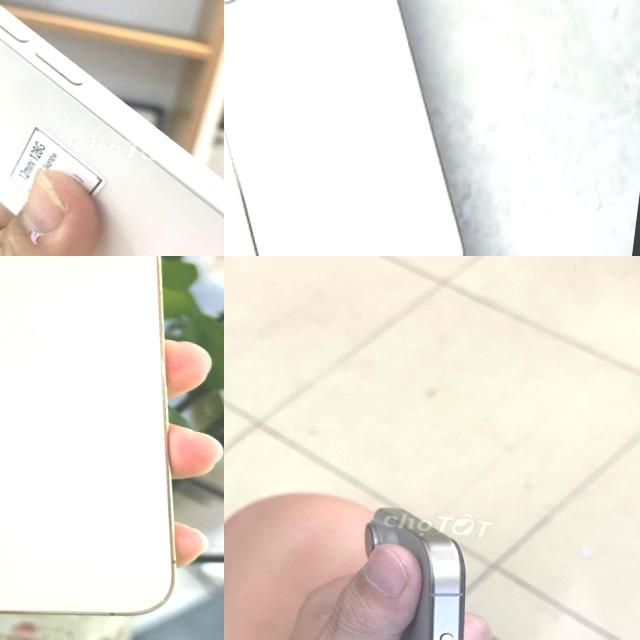gen_12_13: (0, 256, 174, 615), (224, 0, 463, 256), (0, 0, 224, 256)
gen_15: (304, 492, 535, 640)
